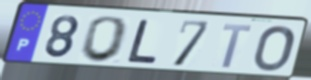7: (172, 18, 212, 68)
8: (44, 14, 81, 60)
L: (124, 18, 159, 66)
O: (78, 15, 132, 64), (251, 24, 297, 73)
T: (220, 22, 255, 70)
